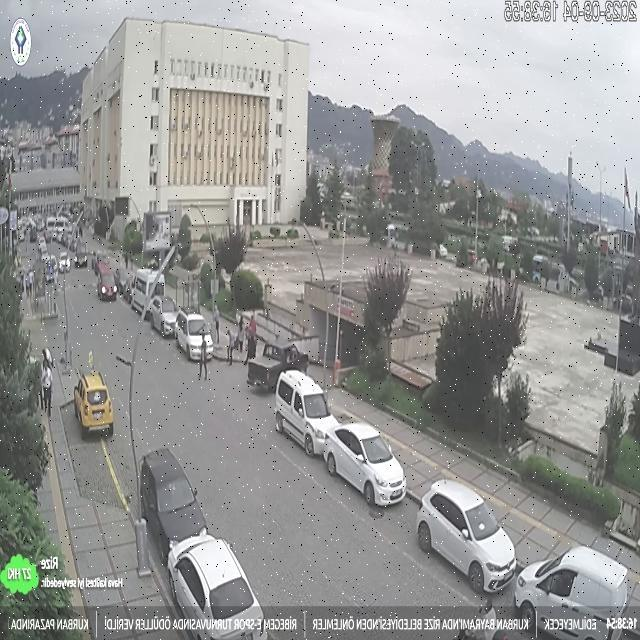Car: (415, 477, 516, 594), (166, 533, 266, 637), (138, 447, 208, 562), (321, 422, 405, 506), (73, 370, 114, 439), (175, 308, 214, 359), (147, 295, 181, 337)
Truck: (244, 341, 312, 394)
Van: (512, 545, 629, 638), (275, 373, 338, 456), (128, 268, 166, 316)
